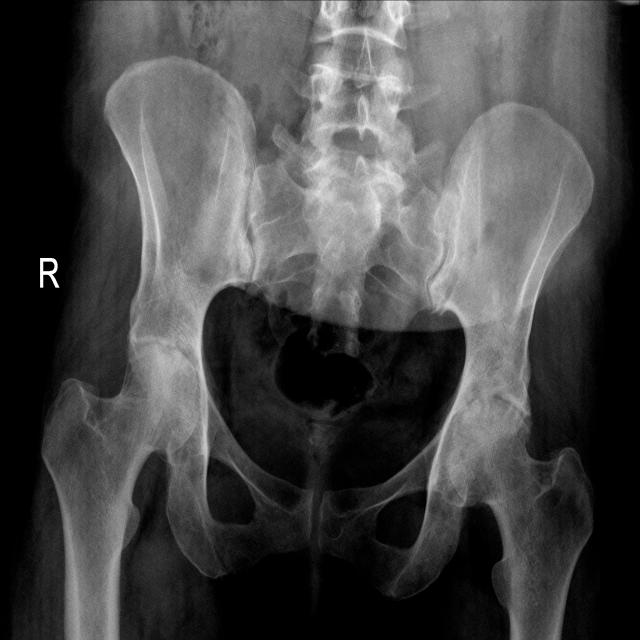normal-left: (446, 397, 594, 640)
normal-right: (42, 342, 199, 639)
